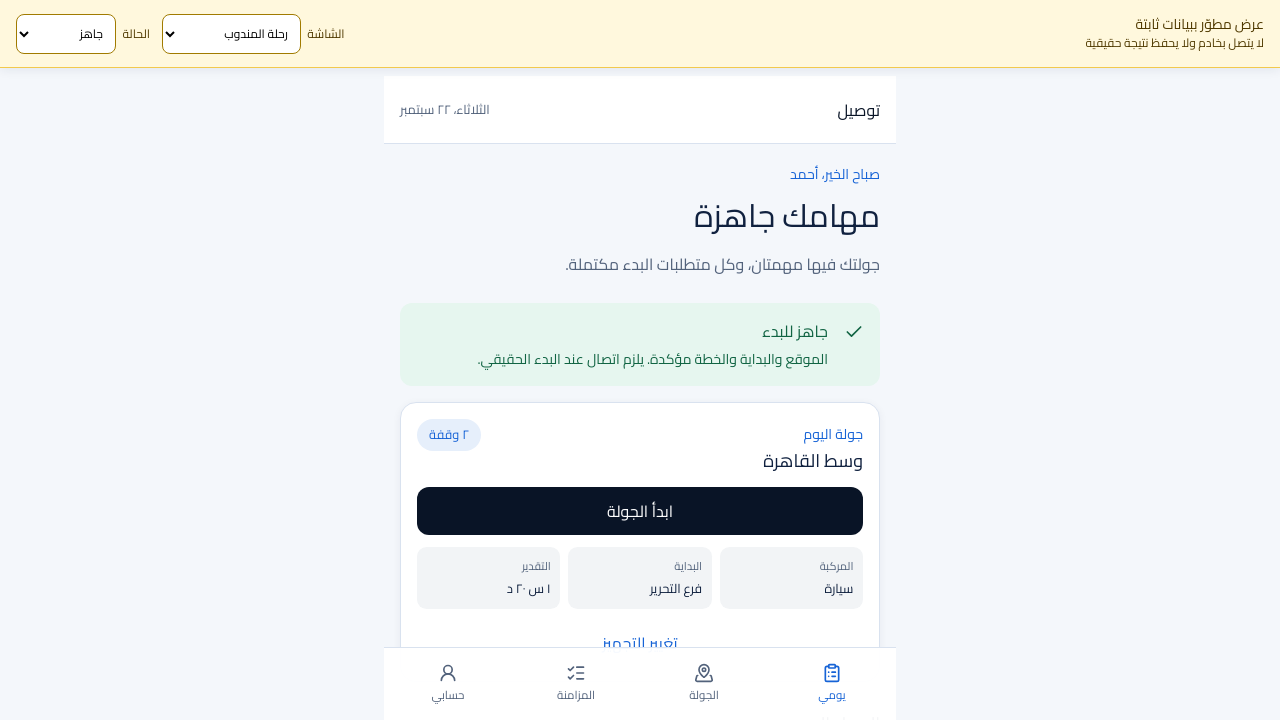
Test case: representative driver fixture › shows missing pin recovery and blocks a misleading start
Select "دبوس ناقص" in the dropdown labelled "الحالة". click: coordinates (66, 34)
box: [16,14,116,54]
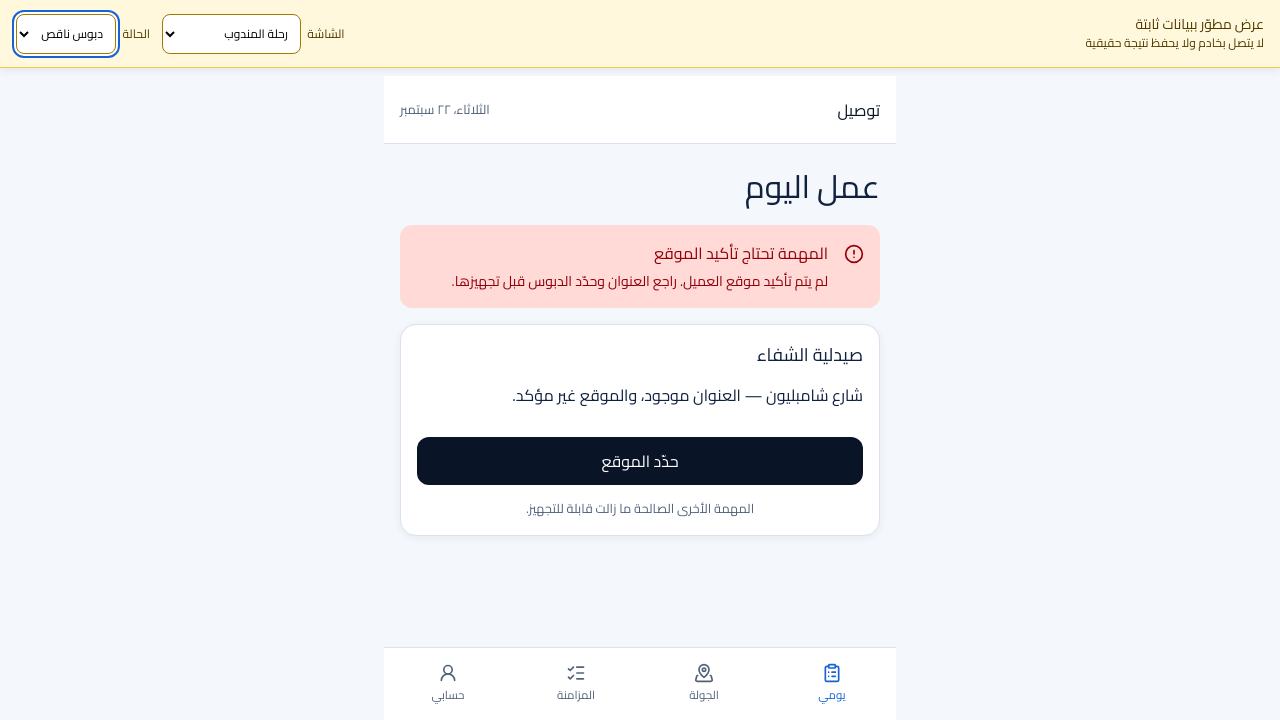
Now the button "حدّد الموقع" is shown, box [417,437,863,485]
Now the text "المهمة الأخرى الصالحة ما زالت قابلة للتجهيز." is shown, box [526,496,754,520]
Now the button "ابدأ الجولة" is gone
